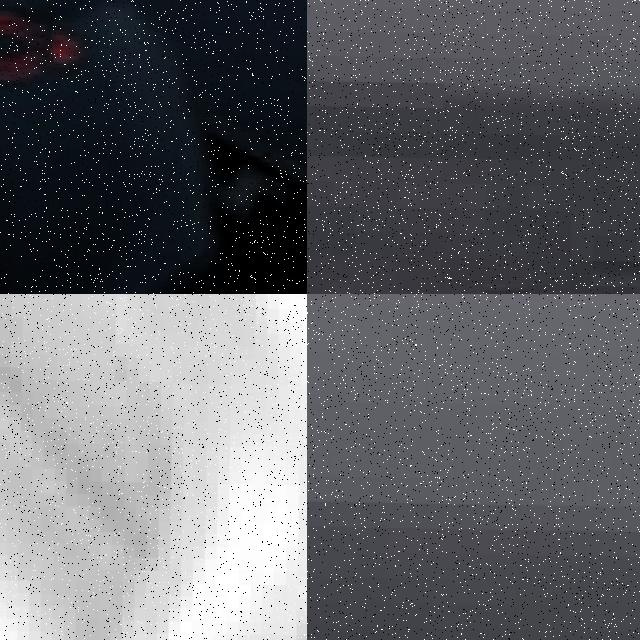drone: (0, 0, 307, 294)
